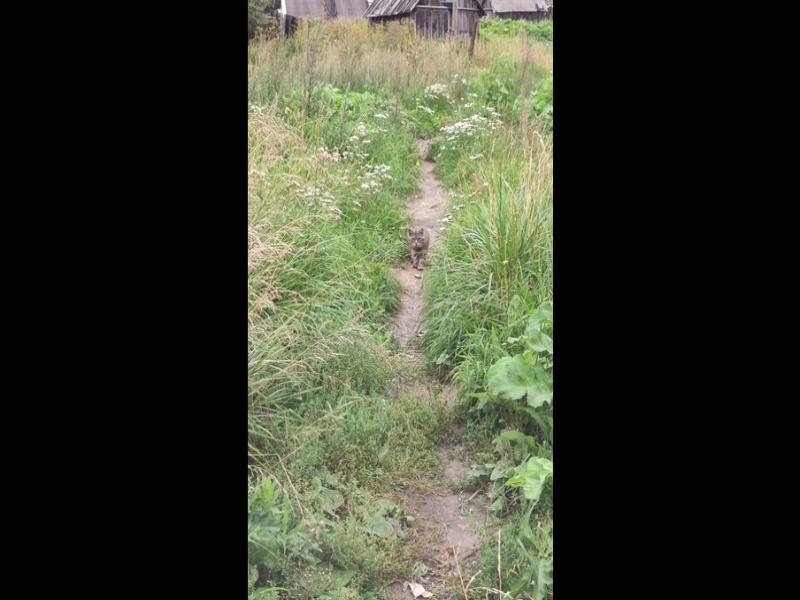cat: (391, 223, 432, 272)
